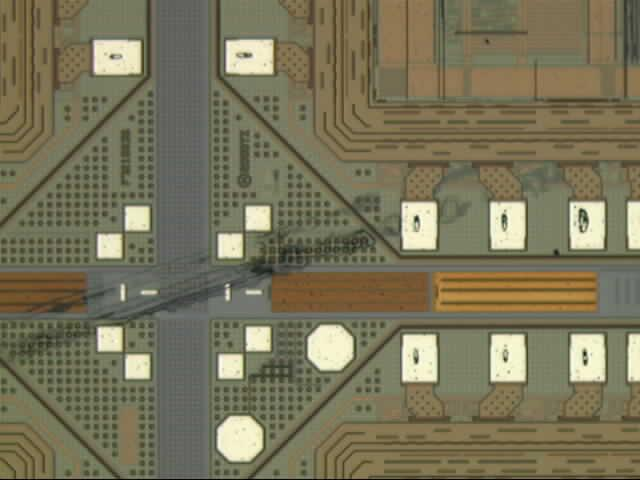SCRATCH: (2, 147, 640, 371)
